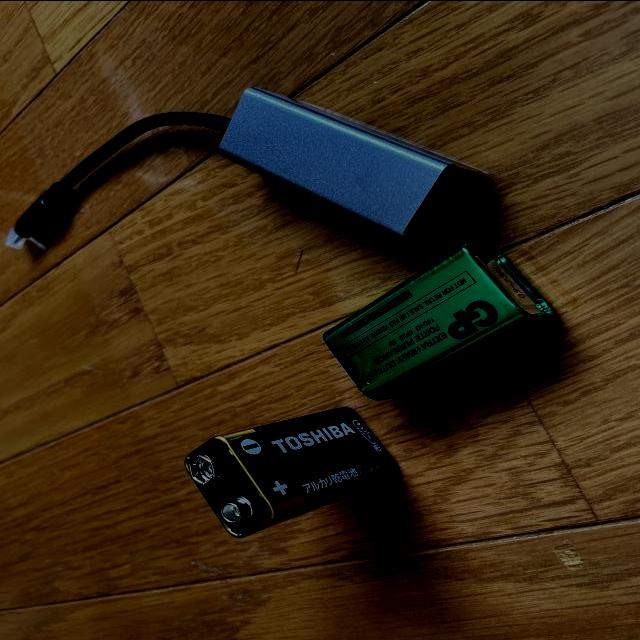9V: (323, 243, 556, 399), (184, 406, 401, 539)
